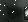person: (25, 8, 28, 21)
